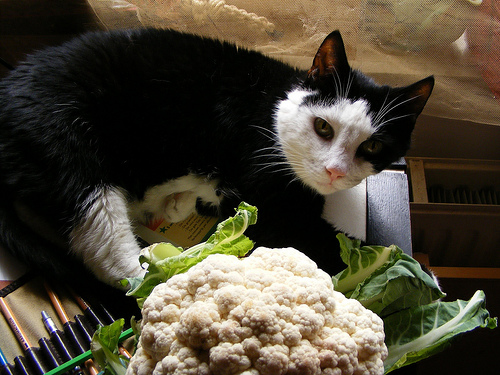cauliflower: (92, 203, 497, 374)
